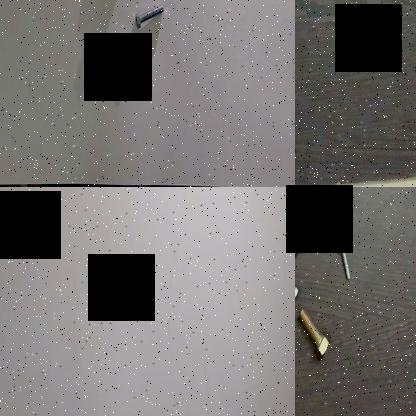Bolts: (299, 308, 331, 362), (132, 0, 167, 35), (295, 221, 310, 266), (299, 187, 322, 211), (295, 266, 301, 304)
NUTS: (323, 187, 343, 210), (317, 219, 332, 247)
